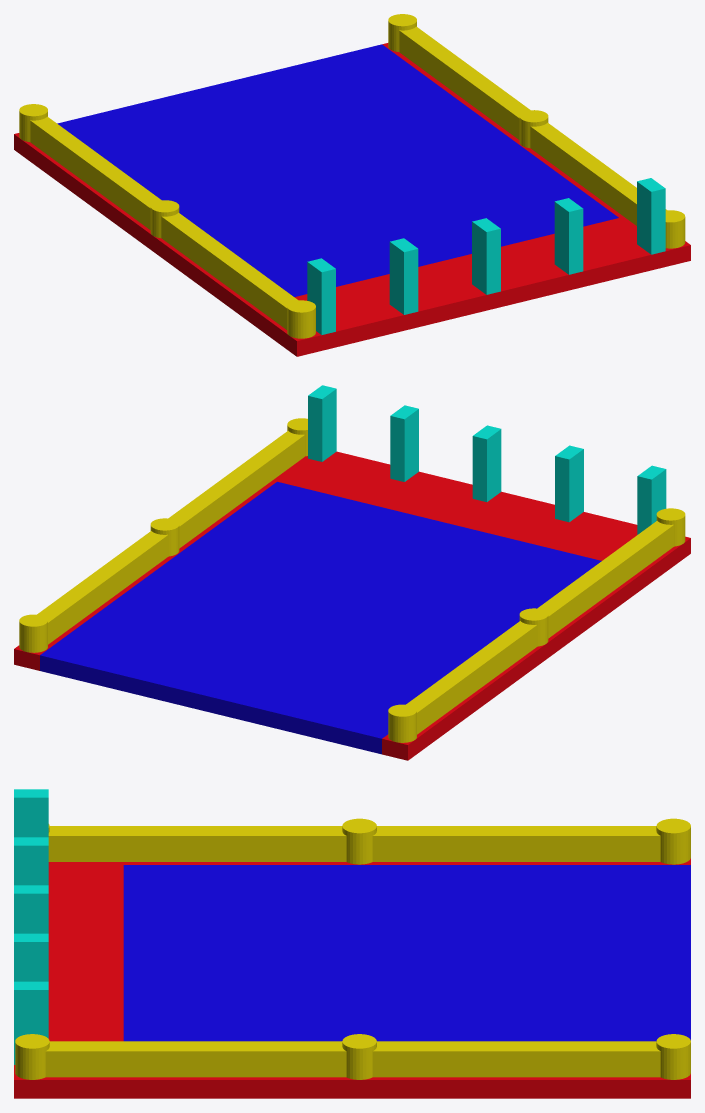
File: WallPlatform.fbx
3 renders of one model, top to bottom at view 1: azimuth 30°, elevation 25°; view 2: azimuth 150°, elevation 25°; view 3: azimuth 270°, elevation 25°, orthographic. The views are drawn at different scales.
Visible parts, largest first — view 1: Cube.059, Cube.078, Cube.077, Cube.074, Cube.073, Cube.075, Cube.072, Cube.062, Cube.067, Cube.060, Cube.064, Cube.070 (+7 smaller); view 2: Cube.059, Cube.078, Cube.077, Cube.072, Cube.074, Cube.073, Cube.075, Cube.064, Cube.060, Cube.067, Cube.062, Cube.076 (+6 smaller); view 3: Cube.059, Cube.076, Cube.078, Cube.072, Cube.074, Cube.073, Cube.075, Cube.060, Cube.077, Cube.062, Cube.064, Cube.067 (+6 smaller).
Part boxes in pixels (x1,y1,x2,y2): Cube.059: (57,44,618,296); Cube.078: (294,218,664,350); Cube.077: (14,133,322,356); Cube.074: (161,212,298,329); Cube.073: (399,26,530,139); Cube.075: (30,116,161,229); Cube.072: (530,122,666,225); Cube.062: (554,198,583,274); Cube.067: (389,238,418,314); Cube.060: (637,178,665,254); Cube.064: (472,218,500,294); Cube.070: (307,258,335,334); Cube.059: (40,481,601,754); Cube.078: (277,451,637,560); Cube.077: (382,536,690,760); Cube.072: (168,431,304,548); Cube.074: (537,521,673,638); Cube.073: (37,531,168,644); Cube.075: (406,621,537,734); Cube.064: (472,425,501,501); Cube.060: (308,385,336,461); Cube.067: (555,445,583,522); Cube.062: (390,405,418,481); Cube.076: (14,456,307,670); Cube.059: (123,865,690,1041); Cube.076: (14,1065,690,1098); Cube.078: (48,865,123,1041); Cube.072: (45,1041,346,1077); Cube.074: (48,826,346,861); Cube.073: (372,1041,660,1077); Cube.075: (372,826,660,861); Cube.060: (14,981,48,1064); Cube.077: (48,858,690,864); Cube.062: (14,933,48,981); Cube.064: (14,885,48,933); Cube.067: (14,837,48,885).
Bounding box in the file's own units: 3154 × 600 × 3921.
